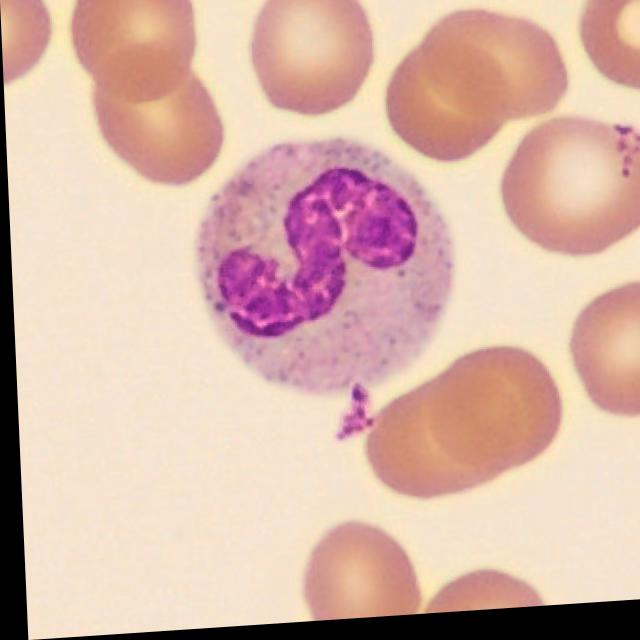Neutrofilo segmentado: (193, 141, 451, 399)
